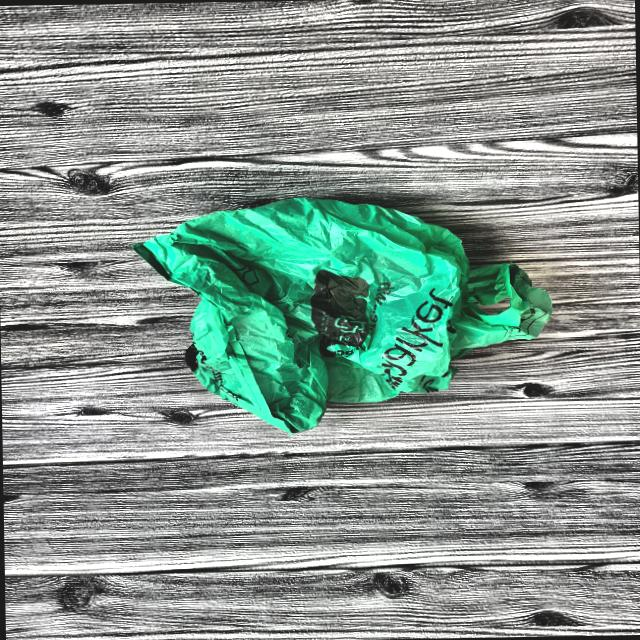plastic bag: (134, 192, 555, 435)
